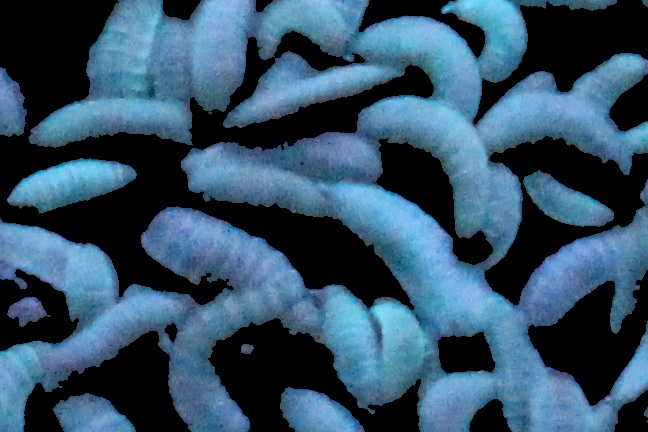larvae: (328, 183, 504, 336), (170, 282, 285, 432), (37, 291, 189, 395), (366, 98, 488, 227), (355, 10, 484, 112), (141, 201, 293, 287), (480, 98, 630, 185), (319, 279, 397, 410), (524, 227, 619, 328), (230, 64, 407, 115), (35, 95, 189, 153), (478, 302, 544, 432), (188, 154, 324, 216), (12, 160, 142, 219), (445, 1, 528, 88), (85, 1, 156, 100), (368, 287, 424, 411), (200, 1, 257, 121), (320, 280, 374, 406), (1, 223, 86, 297), (262, 1, 349, 69), (416, 355, 490, 432), (476, 156, 525, 271), (1, 340, 62, 432), (55, 238, 121, 320), (570, 41, 643, 115), (525, 169, 616, 225), (292, 130, 387, 180), (536, 363, 602, 432), (271, 381, 355, 432), (152, 14, 197, 98), (42, 394, 137, 432)
